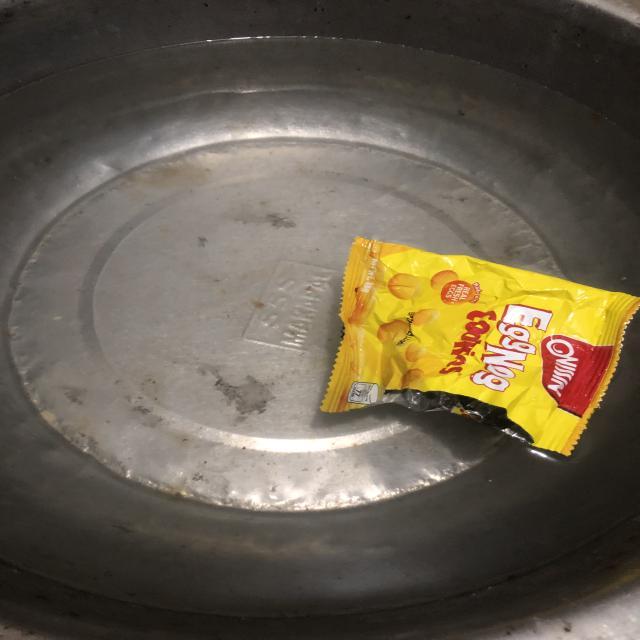Plastic Wrapper: (318, 223, 640, 462)
